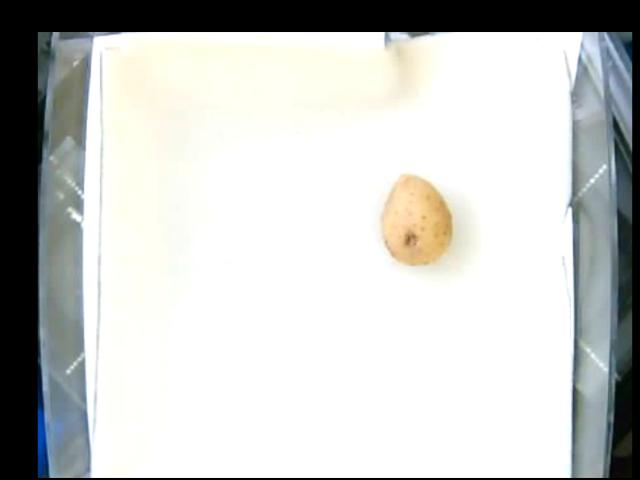Potato: (383, 172, 451, 265)
